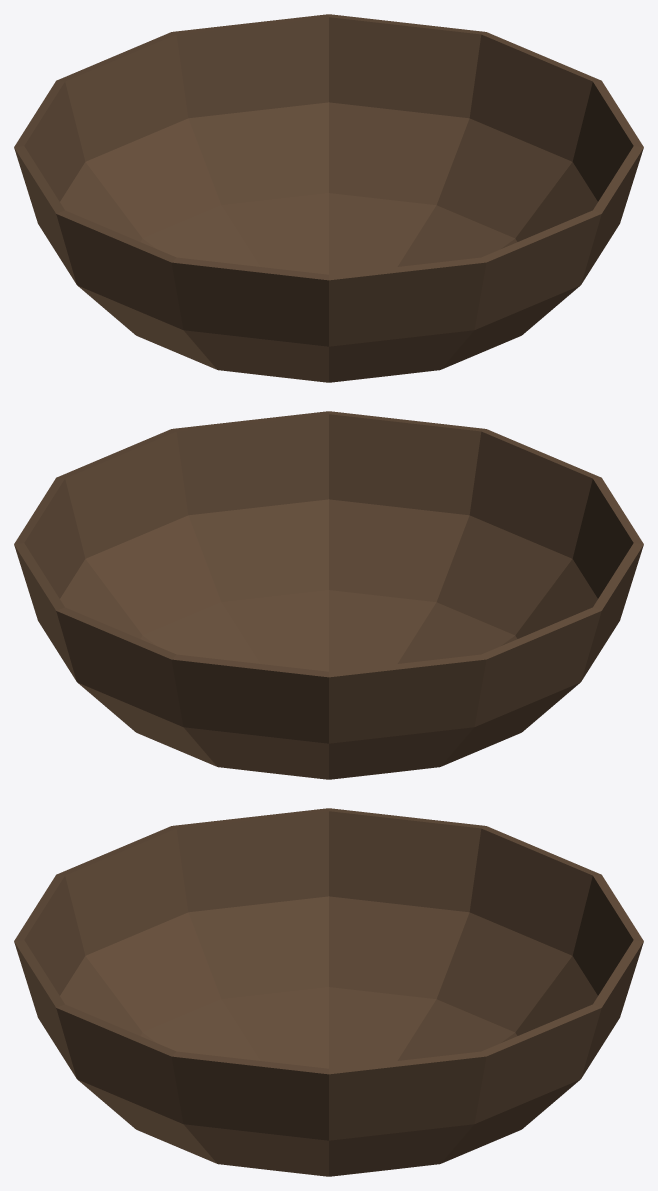
Rendered from Plate_4_Brown.fbx.
3 views of the same model, one above another, from view 1: azimuth 30°, elevation 25°; view 2: azimuth 150°, elevation 25°; view 3: azimuth 270°, elevation 25° (orthographic).
Visible parts, largest first — view 1: Plate_4_Brown; view 2: Plate_4_Brown; view 3: Plate_4_Brown.
Boxes of the visible parts, <box> form: Plate_4_Brown: <box>14,14,643,382</box>; Plate_4_Brown: <box>14,411,643,779</box>; Plate_4_Brown: <box>14,808,643,1176</box>.
Bounding box in the file's own units: 30 × 9.77 × 30.
